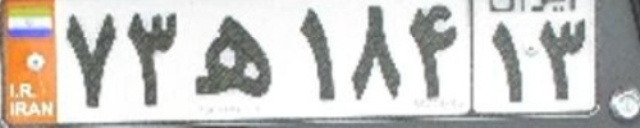1: (298, 7, 336, 100), (491, 22, 524, 100)
3: (127, 11, 181, 105), (540, 18, 586, 99)
4: (407, 3, 456, 99)
7: (66, 10, 115, 107)
8: (349, 4, 400, 99)
he: (193, 15, 273, 97)
